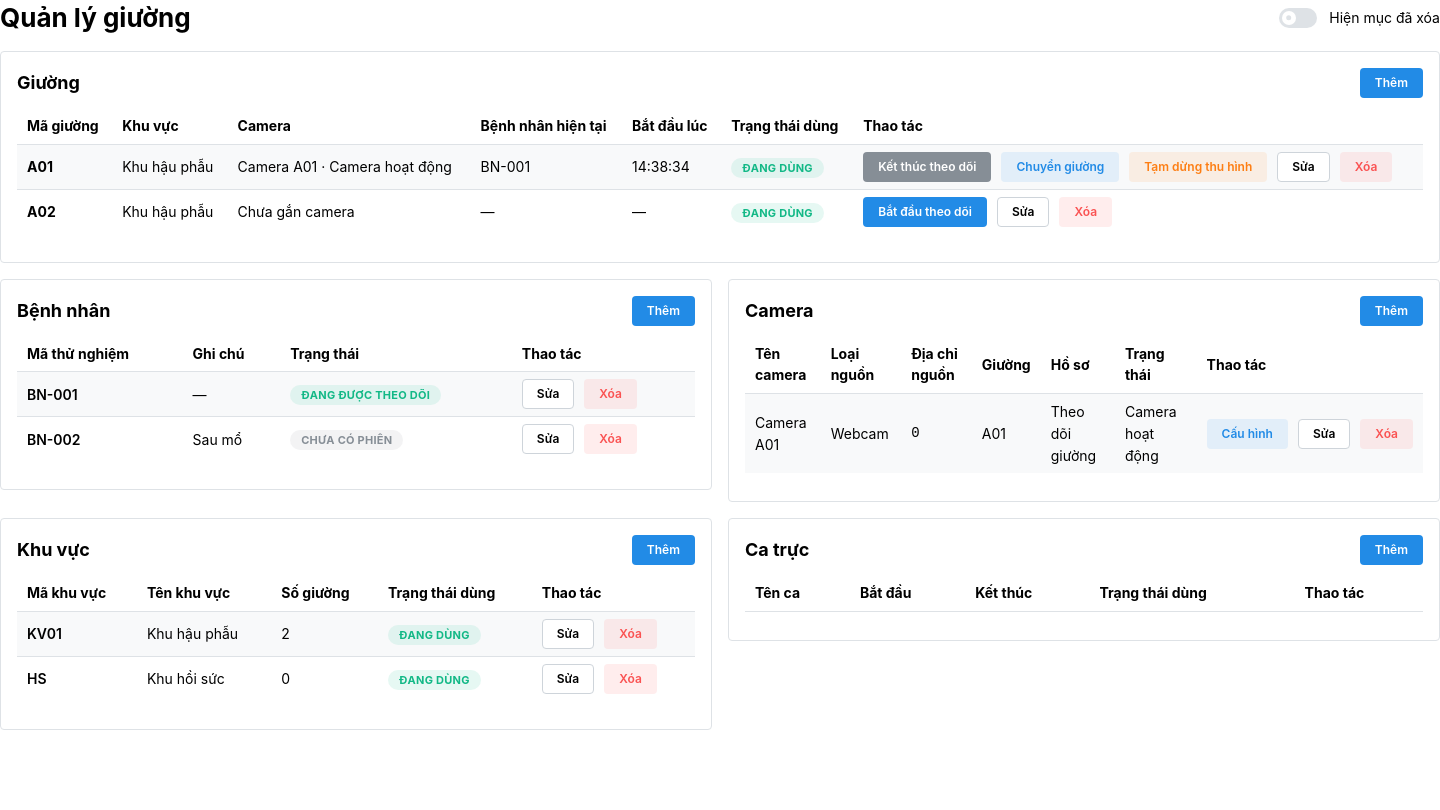
Test: ManagementPage › edit bed sends form values via PATCH
Later steps or results of the test are not shown.
What coordinates should you click on to do the following:
click the button "Sửa" in the row of "A02"
I would click on:
 (1023, 212)
Its box is [997,197,1050,227].
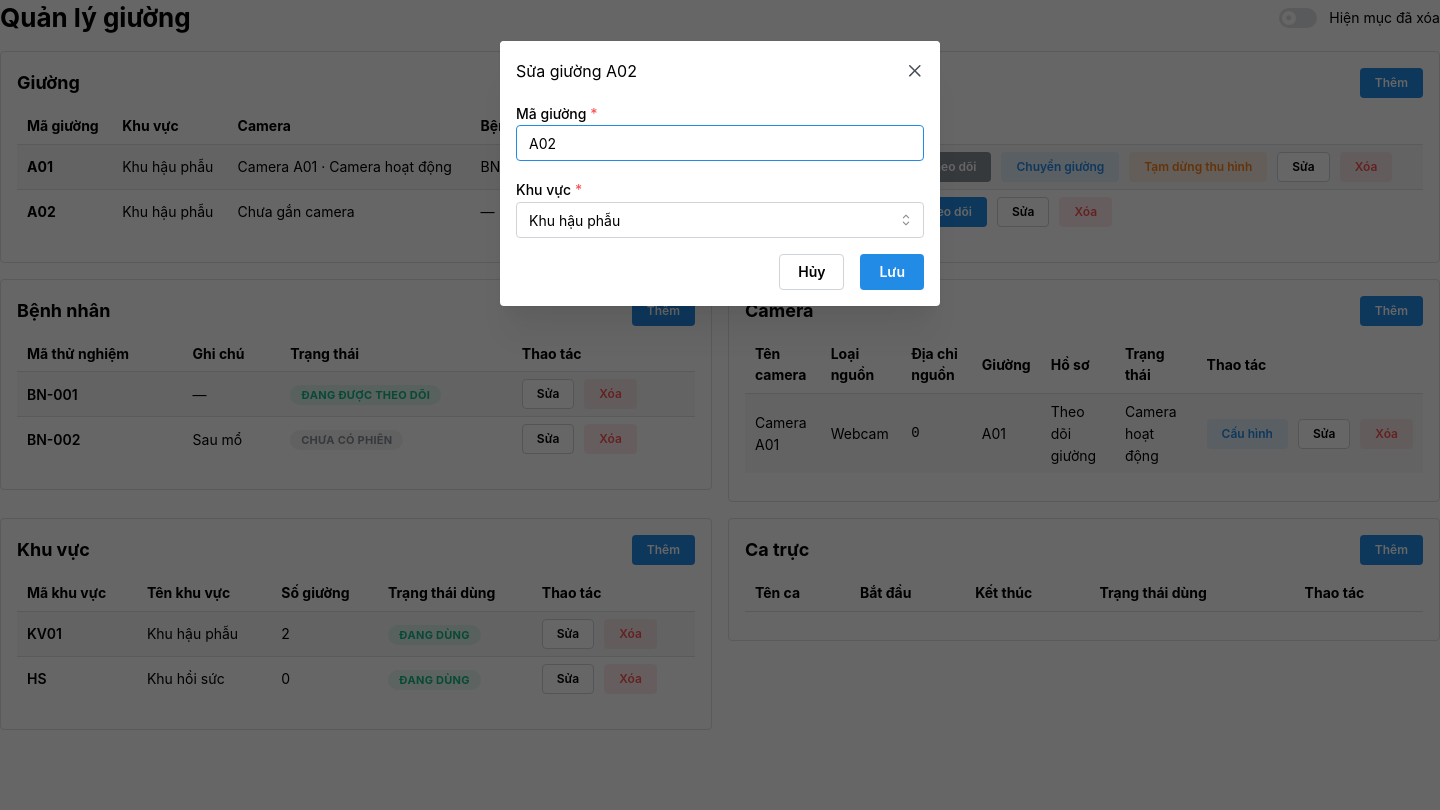
Now the field labelled "Khu vực *" holds "Khu hậu phẫu", box [516,202,924,238]
